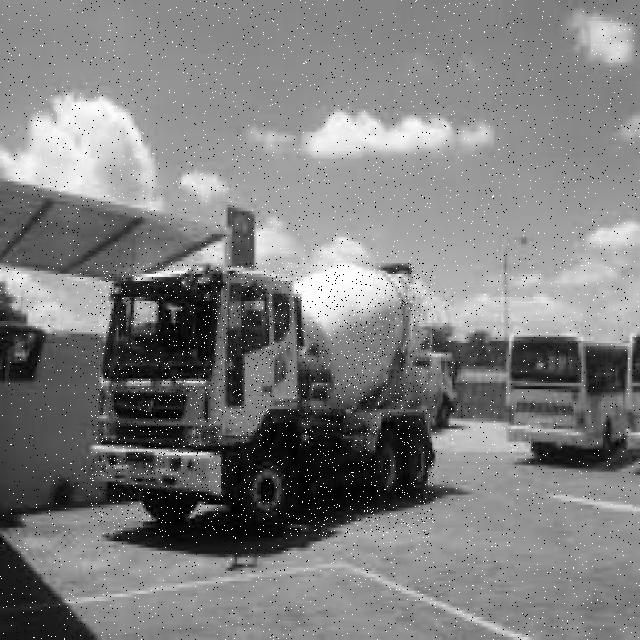Concrete Mixer: (91, 263, 435, 537)
